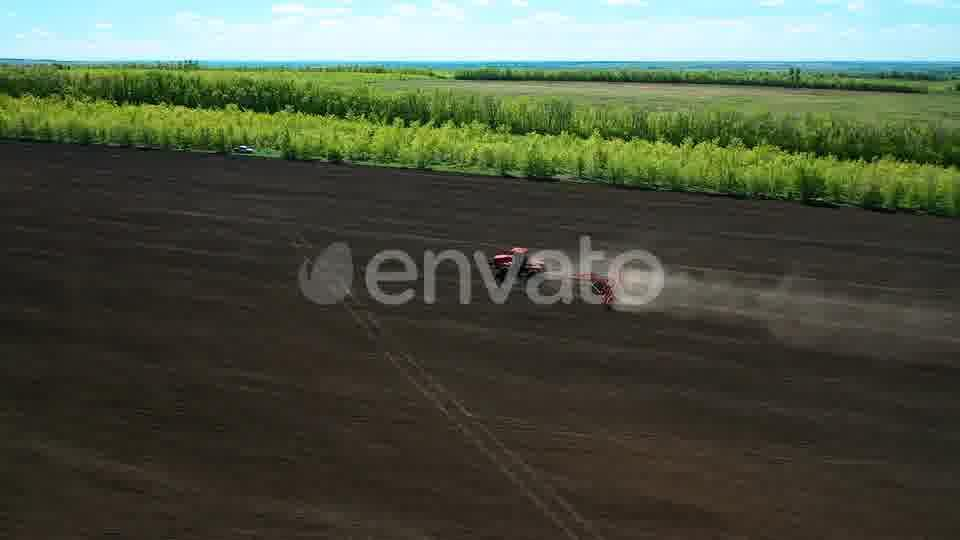tractor: (492, 243, 548, 282)
